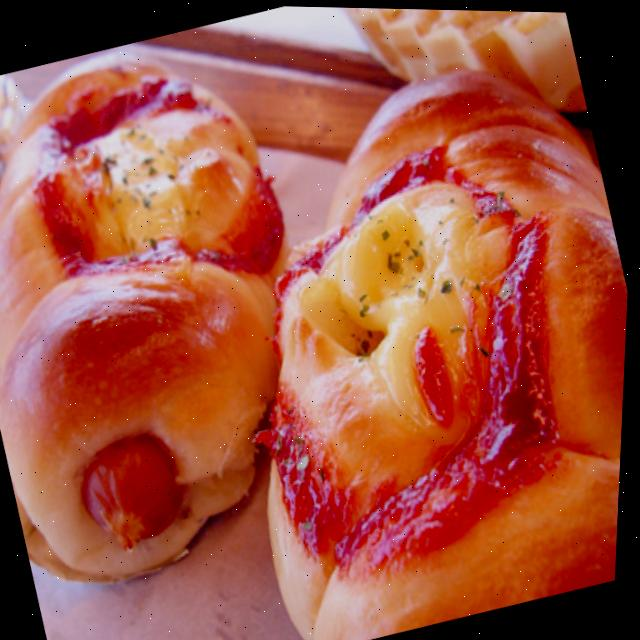三明治: (0, 8, 385, 616)
